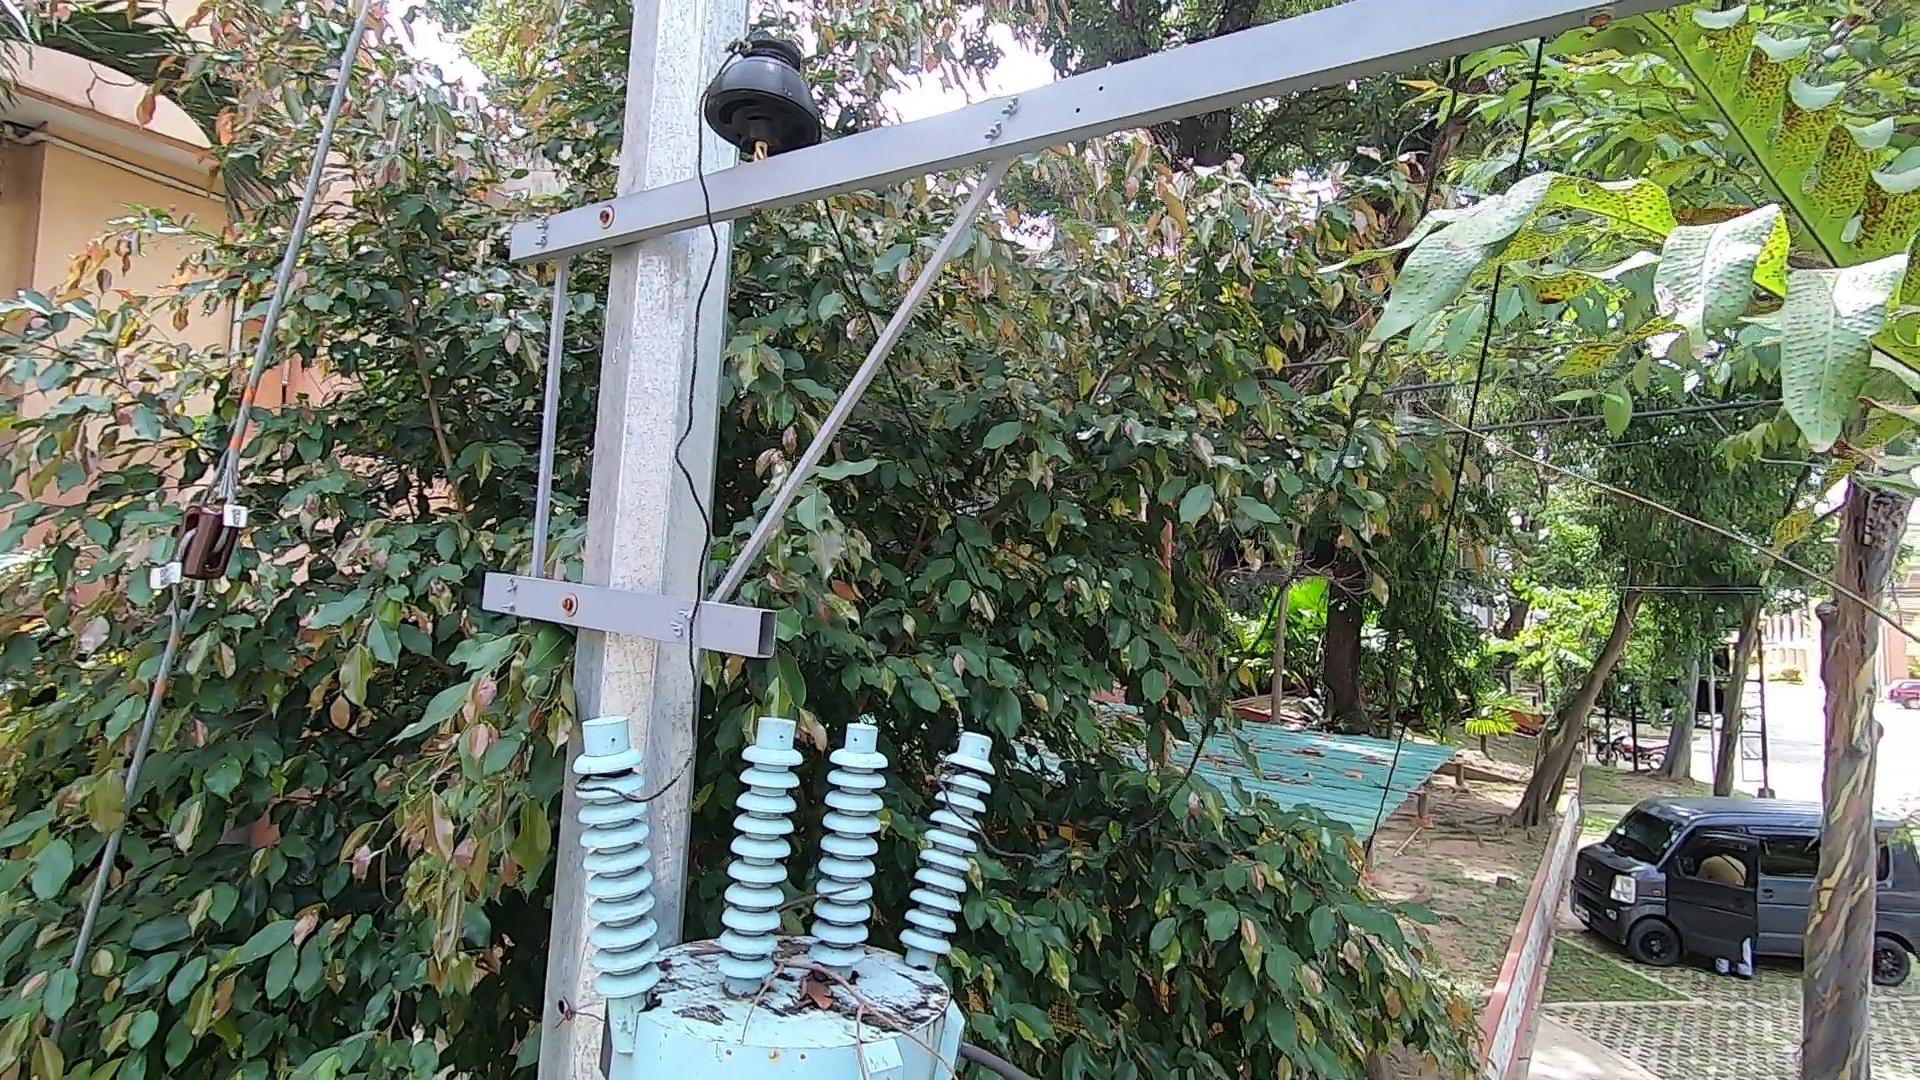leaf: (770, 967, 855, 1030)
tree branch: (735, 928, 975, 1080)
